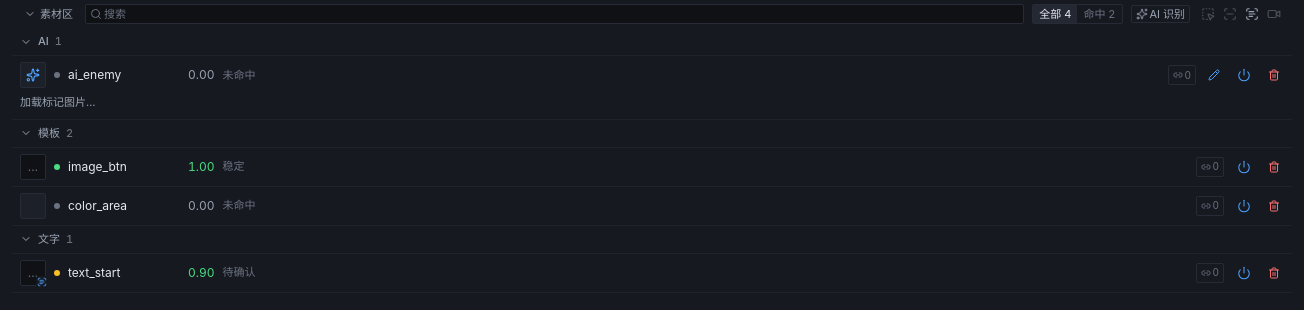
Test case: 素材区：独立分类折叠 › AI、模板、文字分开，各分区可以独立收起并保留其他分类
Expected: the button "ai_enemy" is shown, [68, 66, 180, 84]
Expected: the button "image_btn" is shown, [68, 158, 180, 176]
Click the button with test id "material-group-toggle-ai" at (26,42), box [12, 28, 1292, 56]
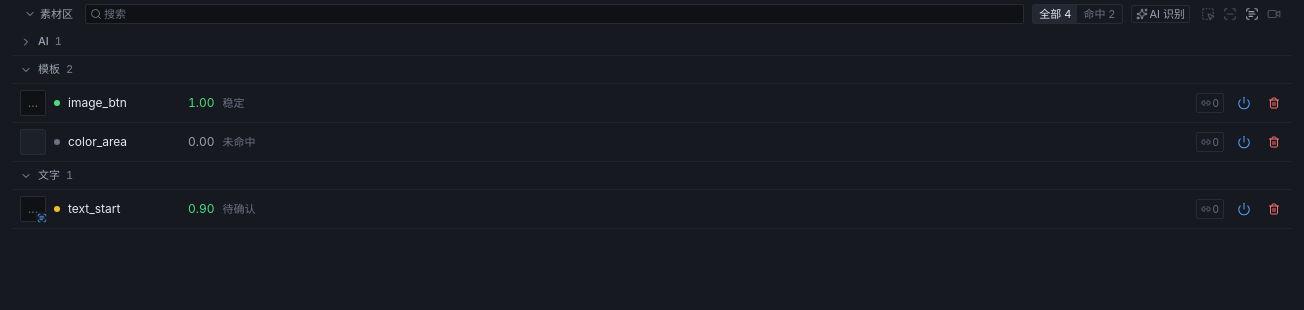
Expected: the button "image_btn" is shown, [68, 94, 180, 112]
Now the button "ai_enemy" is gone
Click the button with test id "material-group-toggle-template" at (26,70), box [12, 56, 1292, 84]
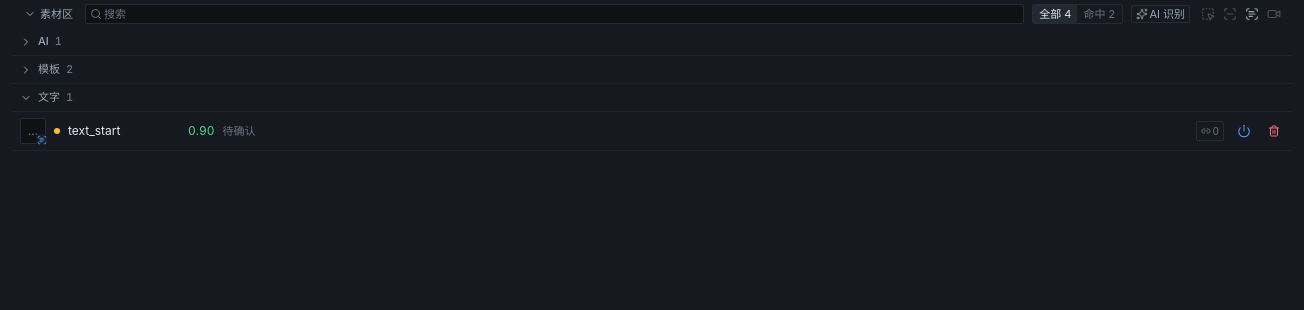
Expected: the button "text_start" is shown, [68, 122, 180, 140]
Now the button "image_btn" is gone
Click the button with test id "material-group-toggle-ai" at (26,42), box [12, 28, 1292, 56]
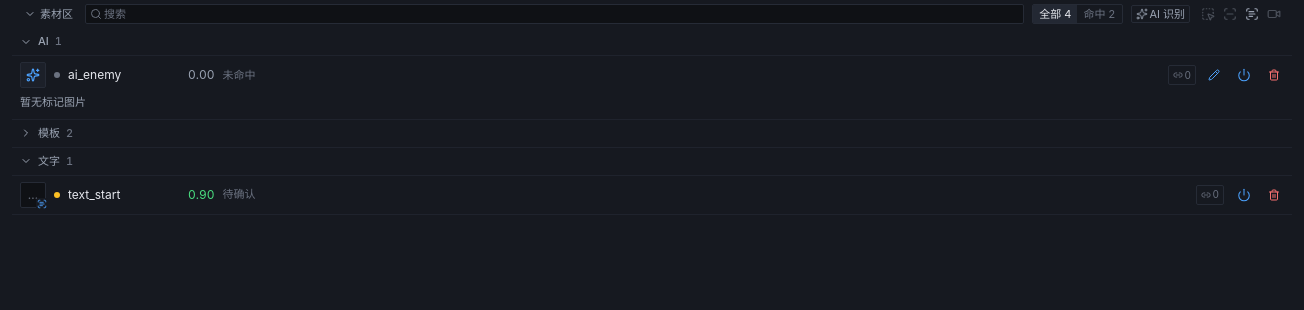
Now the button "ai_enemy" is shown, box [68, 66, 180, 84]
